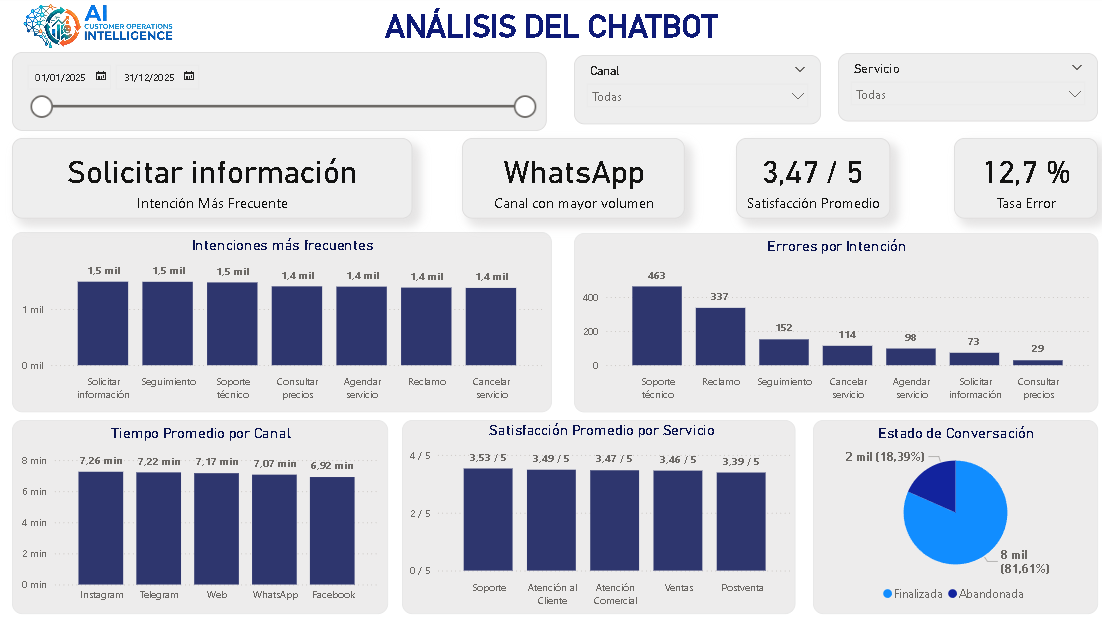

This screenshot's page, from the dashboard's own definition file:
{"tool":"powerbi","page":{"name":"ANÁLISIS DEL CHATBOT   ","canvas":[1280,720],"ordinal":3},"visuals":[{"type":"textbox","title":"ANÁLISIS DEL CHATBOT   ","box":[391.2,13.8,497.3,69.2],"z":0},{"type":"columnChart","title":"Intenciones más frecuentes","fields":{"Category":["DimIntencion.Intencion"],"Y":["Medidas.Total Conversaciones"]},"box":[17.3,272.3,623.1,207.7],"z":1000},{"type":"card","fields":{"Values":["Medidas.Canal con mayor volumen"]},"box":[536.5,163.8,257.3,93.5],"z":2000},{"type":"card","fields":{"Values":["Medidas.Intención Más Frecuente"]},"box":[17.3,163.8,461.5,93.5],"z":3000},{"type":"card","fields":{"Values":["Medidas.Tasa Error"]},"box":[1104.2,163.8,166.2,93.5],"z":4000},{"type":"card","fields":{"Values":["Medidas.Satisfacción Promedio"]},"box":[852.7,163.8,177.7,93.5],"z":5000},{"type":"columnChart","fields":{"Category":["DimCanal.Canal"],"Y":["Medidas.Tiempo Promedio"]},"box":[17.3,489.2,433.8,223.8],"z":6000},{"type":"columnChart","title":"Errores por Intención","fields":{"Category":["DimIntencion.Intencion"],"Y":["Sum(FactConversaciones.TuvoError)"]},"box":[665.8,273.5,604.6,206.5],"z":7000},{"type":"columnChart","fields":{"Y":["Medidas.Satisfacción Promedio"],"Category":["DimServicio.Servicio"]},"box":[467.5,488.8,453.8,223.8],"z":8000},{"type":"pieChart","title":"Estado de Conversación","fields":{"Category":["FactConversaciones.EstadoConversacion"],"Y":["Medidas.Total Conversaciones"]},"box":[941.5,489.2,328.8,223.8],"z":9000},{"type":"slicer","fields":{"Values":["DimFecha.Fecha"]},"box":[17.3,64.6,617.3,91.2],"z":10000},{"type":"slicer","fields":{"Values":["DimCanal.Canal"]},"box":[666.2,67.5,285,80],"z":11000},{"type":"slicer","fields":{"Values":["DimServicio.Servicio"]},"box":[970,66.2,300,78.8],"z":12000},{"type":"image","box":[0,0,232.5,67.5],"z":13000}]}

Visuals, with their boxes in screenshot pixels (x1, y1, x2, y2), scaled from the page's 1280x720 canvas onto the 1102x617 screenshot:
"ANÁLISIS DEL CHATBOT   " textbox: 337/12/765/71
"Intenciones más frecuentes" columnChart: 15/233/551/411
card - Medidas.Canal con mayor volumen: 462/140/683/220
card - Medidas.Intención Más Frecuente: 15/140/412/220
card - Medidas.Tasa Error: 951/140/1094/220
card - Medidas.Satisfacción Promedio: 734/140/887/220
columnChart - DimCanal.Canal x Medidas.Tiempo Promedio: 15/419/388/611
"Errores por Intención" columnChart: 573/234/1094/411
columnChart - Medidas.Satisfacción Promedio x DimServicio.Servicio: 402/419/793/611
"Estado de Conversación" pieChart: 811/419/1094/611
slicer - DimFecha.Fecha: 15/55/546/134
slicer - DimCanal.Canal: 574/58/819/126
slicer - DimServicio.Servicio: 835/57/1093/124
image: 0/0/200/58
